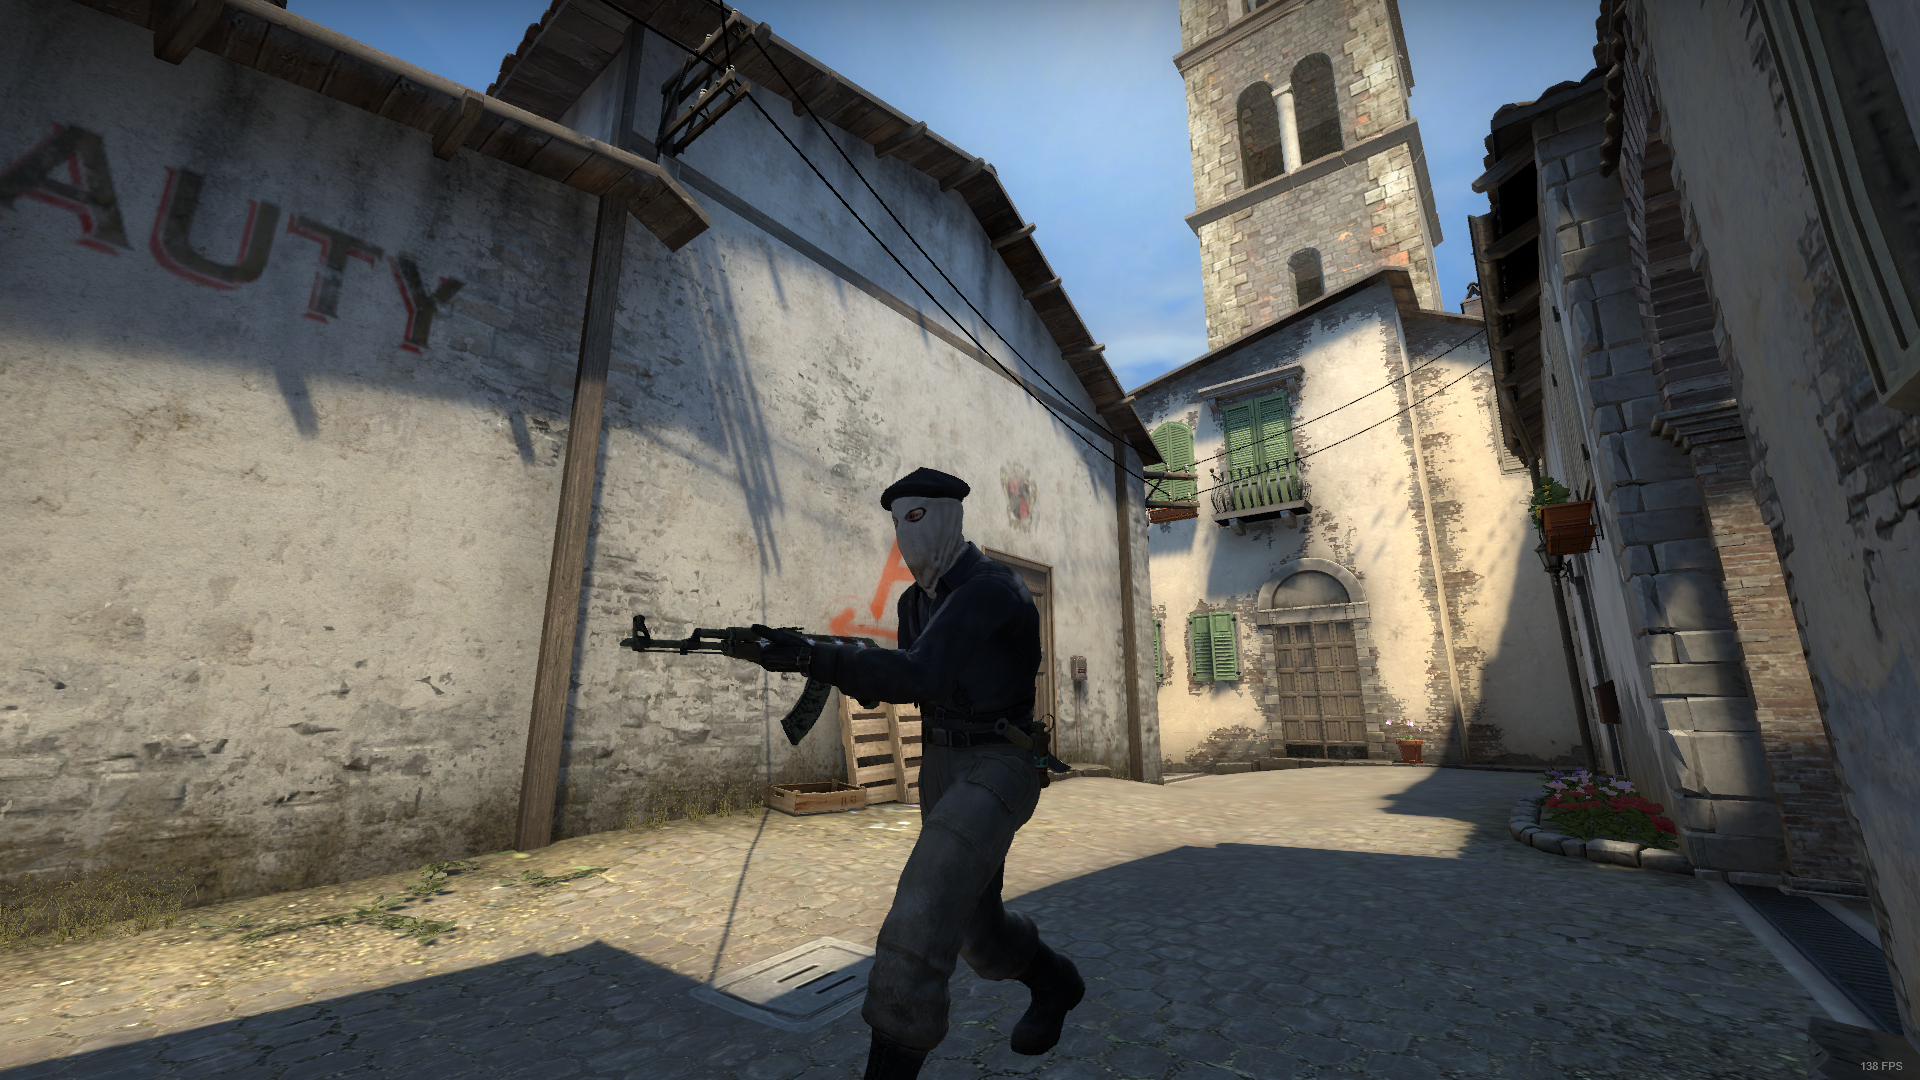t: (733, 460, 1096, 1080)
